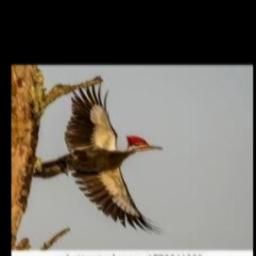Woodpecker: (30, 83, 166, 236)
